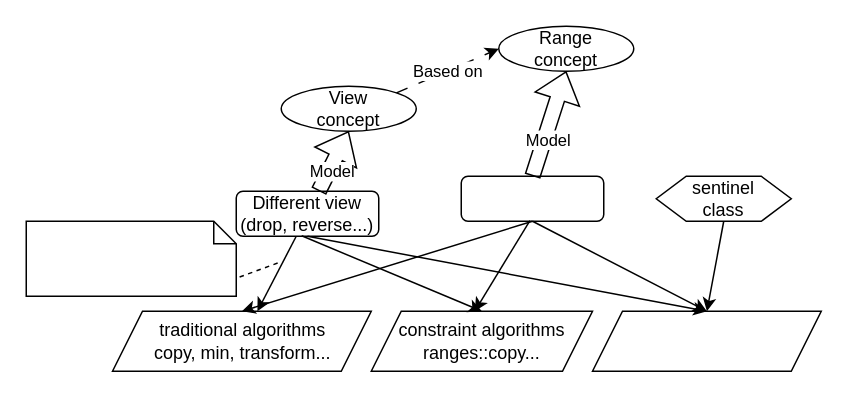
This 848x398 diagram has some shape labels left out. The centre of each missing label's shape, as x and y in pixels:
1) input begin, end if they are same or 2) change to views::common: point (130, 258)
constrinat algorithms with sentinels: point (706, 340)
container (vector, list...): point (532, 198)
